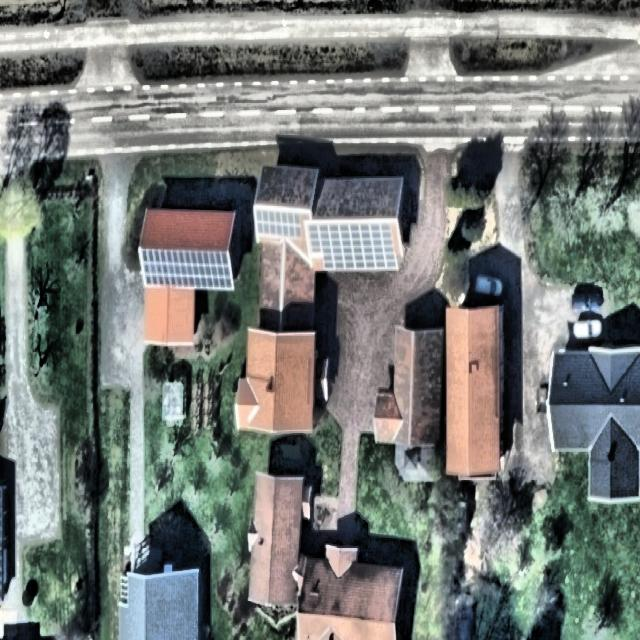roof_pv: (138, 246, 234, 294), (307, 224, 399, 274), (256, 208, 302, 241)
